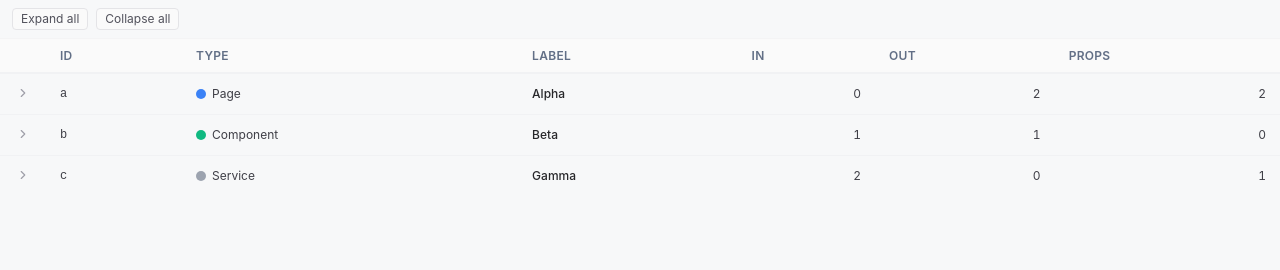
Scenario: TableView › expands a row to show its properties
Step 1. Click the button named "Expand Alpha" → (23, 93), box [14, 84, 32, 102]
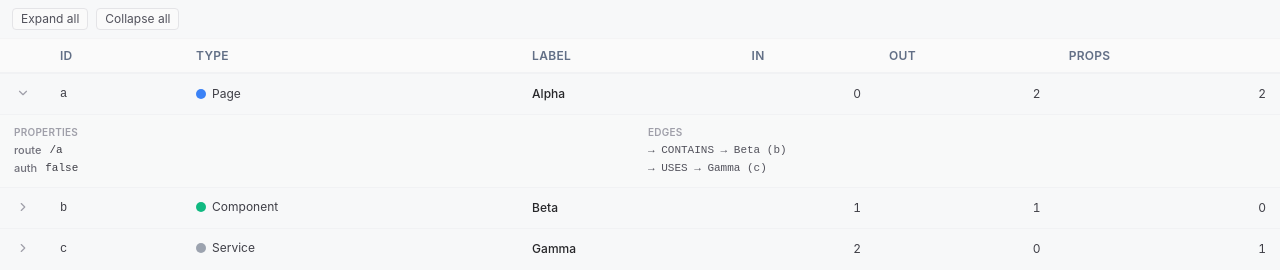
Check: the text "route" is shown, box [14, 144, 41, 159]
Check: the text "/a" is shown, box [49, 144, 63, 159]
Check: the text "auth" is shown, box [14, 161, 37, 177]
